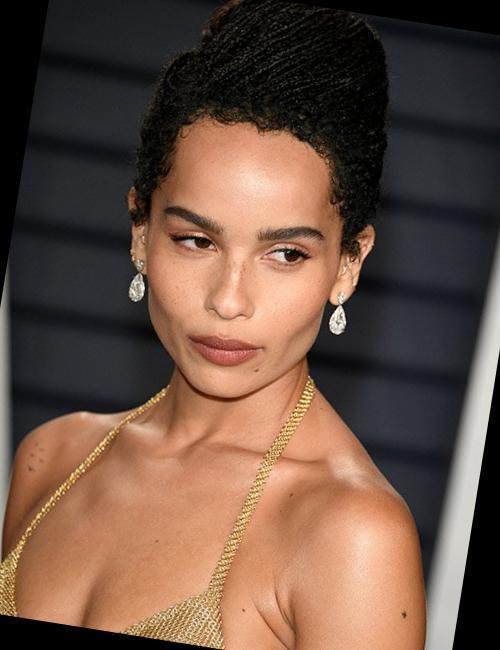Sober: (151, 137, 330, 385)
